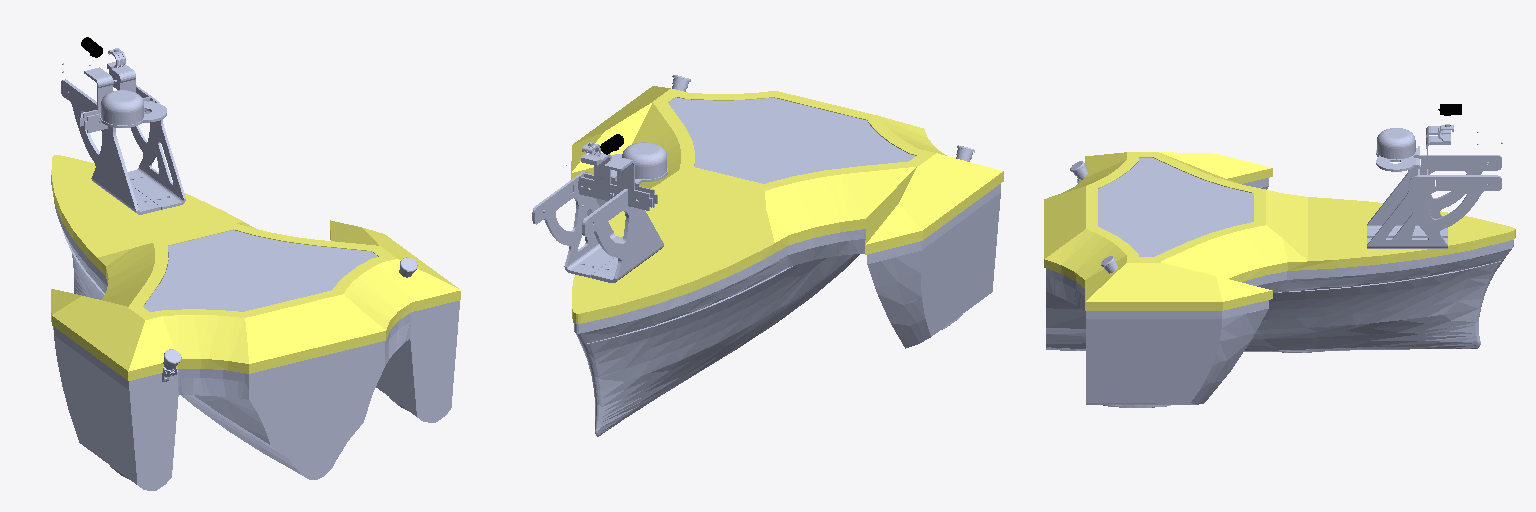
The robot description file, URDF, robot "asv_description":
<?xml version="1.0" ?>
<!-- =================================================================================== -->
<!-- |    This document was autogenerated by xacro from asv_base.urdf.xacro            | -->
<!-- |    EDITING THIS FILE BY HAND IS NOT RECOMMENDED                                 | -->
<!-- =================================================================================== -->
<robot name="asv_description" xmlns:xacro="http://www.ros.org/wiki/xacro">
  <link name="asv">
    <inertial>
      <origin rpy="0 0 0" xyz="0.38789 0.59329 1.1865"/>
      <mass value="0.5331"/>
      <inertia ixx="0" ixy="0" ixz="0" iyy="0" iyz="0" izz="0"/>
    </inertial>
    <visual>
      <origin rpy="0 0 0" xyz="0 0 0"/>
      <geometry>
        <mesh filename="package://asv_description/meshes/asv.STL"/>
      </geometry>
      <material name="">
        <color rgba="0.79216 0.81961 0.93333 1"/>
      </material>
    </visual>
    <collision>
      <origin rpy="0 0 0" xyz="0 0 0"/>
      <geometry>
        <mesh filename="package://asv_description/meshes/asv.STL"/>
      </geometry>
    </collision>
  </link>
  <link name="thruster_right">
    <inertial>
      <origin rpy="0 0 0" xyz="-4.8522E-05 0.00051157 0.0095278"/>
      <mass value="0.2183"/>
      <inertia ixx="9.1096E-05" ixy="3.0619E-09" ixz="-1.6688E-07" iyy="9.0558E-05" iyz="1.2699E-06" izz="1.246E-06"/>
    </inertial>
    <visual>
      <origin rpy="0 0 0" xyz="0 0 0"/>
      <geometry>
        <mesh filename="package://asv_description/meshes/thruster_right.STL"/>
      </geometry>
      <material name="">
        <color rgba="0.79216 0.81961 0.93333 1"/>
      </material>
    </visual>
    <collision>
      <origin rpy="0 0 0" xyz="0 0 0"/>
      <geometry>
        <mesh filename="package://asv_description/meshes/thruster_right.STL"/>
      </geometry>
    </collision>
  </link>
  <joint name="body_to_thruster_right" type="fixed">
    <origin rpy="1.5708 0 3.1416" xyz="0.74762 -1.335 0.37124"/>
    <parent link="asv"/>
    <child link="thruster_right"/>
    <axis xyz="0 0 0"/>
  </joint>
  <link name="thruster_left">
    <inertial>
      <origin rpy="0 0 0" xyz="-4.8521E-05 0.00051157 0.0095278"/>
      <mass value="0.2183"/>
      <inertia ixx="9.1096E-05" ixy="3.0619E-09" ixz="-1.6688E-07" iyy="9.0558E-05" iyz="1.2699E-06" izz="1.246E-06"/>
    </inertial>
    <visual>
      <origin rpy="0 0 0" xyz="0 0 0"/>
      <geometry>
        <mesh filename="package://asv_description/meshes/thruster_left.STL"/>
      </geometry>
      <material name="">
        <color rgba="0.79216 0.81961 0.93333 1"/>
      </material>
    </visual>
    <collision>
      <origin rpy="0 0 0" xyz="0 0 0"/>
      <geometry>
        <mesh filename="package://asv_description/meshes/thruster_left.STL"/>
      </geometry>
    </collision>
  </link>
  <joint name="body_to_thruster_left" type="fixed">
    <origin rpy="1.5708 0 3.1416" xyz="0.027678 -1.335 0.37124"/>
    <parent link="asv"/>
    <child link="thruster_left"/>
    <axis xyz="0 0 0"/>
  </joint>
  <link name="top_body">
    <inertial>
      <origin rpy="0 0 0" xyz="-3.2569E-05 0.15165 0.037912"/>
      <mass value="1.6252"/>
      <inertia ixx="0" ixy="0" ixz="0" iyy="0" iyz="0" izz="0"/>
    </inertial>
    <visual>
      <origin rpy="0 0 0" xyz="0 0 0"/>
      <geometry>
        <mesh filename="package://asv_description/meshes/top_body.STL"/>
      </geometry>
      <material name="">
        <color rgba="1 1 0.50196 1"/>
      </material>
    </visual>
    <collision>
      <origin rpy="0 0 0" xyz="0 0 0"/>
      <geometry>
        <mesh filename="package://asv_description/meshes/top_body.STL"/>
      </geometry>
    </collision>
  </link>
  <joint name="asv_to_top_body" type="fixed">
    <origin rpy="1.5708 0 0" xyz="0.38708 -1.0625 0.60681"/>
    <parent link="asv"/>
    <child link="top_body"/>
    <axis xyz="0 0 0"/>
  </joint>
  <link name="top_cover">
    <inertial>
      <origin rpy="0 0 0" xyz="2.7931E-06 -0.018976 0.0015"/>
      <mass value="0.43537"/>
      <inertia ixx="0" ixy="0" ixz="0" iyy="0" iyz="0" izz="0"/>
    </inertial>
    <visual>
      <origin rpy="0 0 0" xyz="0 0 0"/>
      <geometry>
        <mesh filename="package://asv_description/meshes/top_cover.STL"/>
      </geometry>
      <material name="">
        <color rgba="0.79216 0.81961 0.93333 1"/>
      </material>
    </visual>
    <collision>
      <origin rpy="0 0 0" xyz="0 0 0"/>
      <geometry>
        <mesh filename="package://asv_description/meshes/top_cover.STL"/>
      </geometry>
    </collision>
  </link>
  <joint name="top_body_to_cover" type="fixed">
    <origin rpy="-1.5708 0 0" xyz="0.00059952 0.19104 0.1763"/>
    <parent link="top_body"/>
    <child link="top_cover"/>
    <axis xyz="0 0 1"/>
    <limit effort="0" lower="0" upper="0.2" velocity="0"/>
  </joint>
  <link name="sensor_pod">
    <inertial>
      <origin rpy="0 0 0" xyz="-0.029193 -0.040604 -0.010551"/>
      <mass value="0.6495"/>
      <inertia ixx="0.0016814" ixy="-1.4742E-07" ixz="-3.6677E-05" iyy="0.0016822" iyz="-6.7581E-06" izz="8.2722E-07"/>
    </inertial>
    <visual>
      <origin rpy="0 0 0" xyz="0 0 0"/>
      <geometry>
        <mesh filename="package://asv_description/meshes/sensor_pod.STL"/>
      </geometry>
      <material name="">
        <color rgba="0.79216 0.81961 0.93333 1"/>
      </material>
    </visual>
    <collision>
      <origin rpy="0 0 0" xyz="0 0 0"/>
      <geometry>
        <mesh filename="package://asv_description/meshes/sensor_pod.STL"/>
      </geometry>
    </collision>
  </link>
  <joint name="top_to_sensor_pod" type="fixed">
    <origin rpy="0 1.5708 0" xyz="0 0.2547 -0.47015"/>
    <parent link="top_body"/>
    <child link="sensor_pod"/>
    <axis xyz="0 0 1"/>
  </joint>
  <link name="camera_garmin_mounts">
    <inertial>
      <origin rpy="0 0 0" xyz="0.0027436 0.024777 0.009305"/>
      <mass value="0.11757"/>
      <inertia ixx="0.0001482" ixy="1.0861E-19" ixz="-3.2822E-19" iyy="0.00013357" iyz="4.4199E-05" izz="1.4626E-05"/>
    </inertial>
    <visual>
      <origin rpy="0 0 0" xyz="0 0 0"/>
      <geometry>
        <mesh filename="package://asv_description/meshes/camera_garmin_mounts.STL"/>
      </geometry>
      <material name="">
        <color rgba="0.79216 0.81961 0.93333 1"/>
      </material>
    </visual>
    <collision>
      <origin rpy="0 0 0" xyz="0 0 0"/>
      <geometry>
        <mesh filename="package://asv_description/meshes/camera_garmin_mounts.STL"/>
      </geometry>
    </collision>
  </link>
  <joint name="pod_to_mounts" type="fixed">
    <origin rpy="0 -1.5708 0" xyz="-0.039919 0.069841 0"/>
    <parent link="sensor_pod"/>
    <child link="camera_garmin_mounts"/>
    <axis xyz="1 0 0"/>
  </joint>
  <link name="garmin">
    <inertial>
      <origin rpy="3.141592653589793 0 0" xyz="0 0.023342 0"/>
      <mass value="0.3356"/>
      <inertia ixx="0" ixy="0" ixz="0" iyy="0" iyz="0" izz="0"/>
    </inertial>
    <visual>
      <origin rpy="3.141592653589793 0 0" xyz="0 0 0"/>
      <geometry>
        <mesh filename="package://asv_description/meshes/garmin.STL"/>
      </geometry>
      <material name="">
        <color rgba="0.79216 0.81961 0.93333 1"/>
      </material>
    </visual>
    <collision>
      <origin rpy="3.141592653589793 0 0" xyz="0 0 0"/>
      <geometry>
        <mesh filename="package://asv_description/meshes/garmin.STL"/>
      </geometry>
    </collision>
  </link>
  <joint name="mount_to_garmin" type="fixed">
    <origin rpy="3.141592653589793 -0.18516 0" xyz="0.0027436 0.026 0.059"/>
    <parent link="camera_garmin_mounts"/>
    <child link="garmin"/>
    <axis xyz="0 0 0"/>
  </joint>
  <link name="camera">
    <inertial>
      <origin rpy="0 0 0" xyz="-2.8934E-05 -0.010178 0.021487"/>
      <mass value="0.041091"/>
      <inertia ixx="1.4847E-05" ixy="-3.2519E-08" ixz="-1.1631E-08" iyy="3.365E-06" iyz="-4.1204E-06" izz="1.1483E-05"/>
    </inertial>
    <visual>
      <origin rpy="0 0 0" xyz="0 0 0"/>
      <geometry>
        <mesh filename="package://asv_description/meshes/camera.STL"/>
      </geometry>
      <material name="">
        <color rgba="0.019608 0.019608 0.019608 1"/>
      </material>
    </visual>
    <collision>
      <origin rpy="0 0 0" xyz="0 0 0"/>
      <geometry>
        <mesh filename="package://asv_description/meshes/camera.STL"/>
      </geometry>
    </collision>
  </link>
  <joint name="mount_to_camera" type="fixed">
    <origin rpy="3.1167 0.020214 3.1416" xyz="0.002382 0.14006 -0.050118"/>
    <parent link="camera_garmin_mounts"/>
    <child link="camera"/>
    <axis xyz="0 0 0"/>
  </joint>
  <link name="lidar">
    <inertial>
      <origin rpy="0 0 0" xyz="0.00017493 -0.020457 0.00018726"/>
      <mass value="8.4876E-05"/>
      <inertia ixx="7.4827E-08" ixy="1.3927E-09" ixz="-5.2849E-10" iyy="1.4091E-07" iyz="1.6125E-09" izz="7.4592E-08"/>
    </inertial>
    <visual>
      <origin rpy="0 0 0" xyz="0 0 0"/>
      <geometry>
        <mesh filename="package://asv_description/meshes/lidar.STL"/>
      </geometry>
      <material name="">
        <color rgba="0.79216 0.81961 0.93333 1"/>
      </material>
    </visual>
    <collision>
      <origin rpy="0 0 0" xyz="0 0 0"/>
      <geometry>
        <mesh filename="package://asv_description/meshes/lidar.STL"/>
      </geometry>
    </collision>
  </link>
  <joint name="pod_to_lidar" type="fixed">
    <origin rpy="2.9322 -1.5708 0" xyz="0.12046 0.10702 0.0022421"/>
    <parent link="sensor_pod"/>
    <child link="lidar"/>
    <axis xyz="0 0 0"/>
  </joint>
  <link name="kill_switch_2">
    <inertial>
      <origin rpy="0 0 0" xyz="0.21906 0.04363 0.013308"/>
      <mass value="0.048397"/>
      <inertia ixx="0" ixy="0" ixz="0" iyy="0" iyz="0" izz="0"/>
    </inertial>
    <visual>
      <origin rpy="0 0 0" xyz="0 0 0"/>
      <geometry>
        <mesh filename="package://asv_description/meshes/kill_switch_2.STL"/>
      </geometry>
      <material name="">
        <color rgba="0.79216 0.81961 0.93333 1"/>
      </material>
    </visual>
    <collision>
      <origin rpy="0 0 0" xyz="0 0 0"/>
      <geometry>
        <mesh filename="package://asv_description/meshes/kill_switch_2.STL"/>
      </geometry>
    </collision>
  </link>
  <joint name="top_to_kill_2" type="fixed">
    <origin rpy="1.5708 0.5236 -1.5708" xyz="0.34081 0.37001 0.43324"/>
    <parent link="top_body"/>
    <child link="kill_switch_2"/>
    <axis xyz="0 0 0"/>
  </joint>
  <link name="kill_switch_1">
    <inertial>
      <origin rpy="0 0 0" xyz="0.21906 0.04363 0.013308"/>
      <mass value="0.048397"/>
      <inertia ixx="0" ixy="0" ixz="0" iyy="0" iyz="0" izz="0"/>
    </inertial>
    <visual>
      <origin rpy="0 0 0" xyz="0 0 0"/>
      <geometry>
        <mesh filename="package://asv_description/meshes/kill_switch_1.STL"/>
      </geometry>
      <material name="">
        <color rgba="0.79216 0.81961 0.93333 1"/>
      </material>
    </visual>
    <collision>
      <origin rpy="0 0 0" xyz="0 0 0"/>
      <geometry>
        <mesh filename="package://asv_description/meshes/kill_switch_1.STL"/>
      </geometry>
    </collision>
  </link>
  <joint name="top_to_kill_1" type="fixed">
    <origin rpy="-1.5708 0.5236 -1.5708" xyz="-0.34081 0.32638 0.50881"/>
    <parent link="top_body"/>
    <child link="kill_switch_1"/>
    <axis xyz="0 0 0"/>
  </joint>
  <link name="battery_1">
    <inertial>
      <origin rpy="0 0 0" xyz="-5.5511E-17 0.0185 0"/>
      <mass value="0.4921"/>
      <inertia ixx="0" ixy="0" ixz="0" iyy="0" iyz="0" izz="0"/>
    </inertial>
    <visual>
      <origin rpy="0 0 0" xyz="0 0 0"/>
      <geometry>
        <mesh filename="package://asv_description/meshes/battery_1.STL"/>
      </geometry>
      <material name="">
        <color rgba="0.79216 0.81961 0.93333 1"/>
      </material>
    </visual>
    <collision>
      <origin rpy="0 0 0" xyz="0 0 0"/>
      <geometry>
        <mesh filename="package://asv_description/meshes/battery_1.STL"/>
      </geometry>
    </collision>
  </link>
  <joint name="body_to_battery" type="fixed">
    <origin rpy="3.1416 0 0" xyz="0.38768 -1.5211 0.59834"/>
    <parent link="asv"/>
    <child link="battery_1"/>
    <axis xyz="0 0 0"/>
  </joint>
  <link name="battery_2">
    <inertial>
      <origin rpy="0 0 0" xyz="-5.5511E-17 0.0185 0"/>
      <mass value="0.4921"/>
      <inertia ixx="0" ixy="0" ixz="0" iyy="0" iyz="0" izz="0"/>
    </inertial>
    <visual>
      <origin rpy="0 0 0" xyz="0 0 0"/>
      <geometry>
        <mesh filename="package://asv_description/meshes/battery_2.STL"/>
      </geometry>
      <material name="">
        <color rgba="0.79216 0.81961 0.93333 1"/>
      </material>
    </visual>
    <collision>
      <origin rpy="0 0 0" xyz="0 0 0"/>
      <geometry>
        <mesh filename="package://asv_description/meshes/battery_2.STL"/>
      </geometry>
    </collision>
  </link>
  <joint name="battery_1_to_battery_2" type="fixed">
    <origin rpy="0 0 0" xyz="0 -0.037 0"/>
    <parent link="battery_1"/>
    <child link="battery_2"/>
    <axis xyz="0 0 0"/>
  </joint>
  <link name="mount">
    <inertial>
      <origin rpy="0 0 0" xyz="5.5511E-16 0.045908 -1.9984E-15"/>
      <mass value="0.23261"/>
      <inertia ixx="0" ixy="0" ixz="0" iyy="0" iyz="0" izz="0"/>
    </inertial>
    <visual>
      <origin rpy="0 0 0" xyz="0 0 0"/>
      <geometry>
        <mesh filename="package://asv_description/meshes/mount.STL"/>
      </geometry>
      <material name="">
        <color rgba="0.79216 0.81961 0.93333 1"/>
      </material>
    </visual>
    <collision>
      <origin rpy="0 0 0" xyz="0 0 0"/>
      <geometry>
        <mesh filename="package://asv_description/meshes/mount.STL"/>
      </geometry>
    </collision>
  </link>
  <joint name="body_to_mount" type="fixed">
    <origin rpy="1.5708 0 0" xyz="0.38768 -1.2531 0.56334"/>
    <parent link="asv"/>
    <child link="mount"/>
    <axis xyz="0 0 0"/>
  </joint>
  <link name="rs_232_port">
    <inertial>
      <origin rpy="0 0 0" xyz="6.911E-07 0.00015008 -0.0062931"/>
      <mass value="0.0020002"/>
      <inertia ixx="0" ixy="0" ixz="0" iyy="0" iyz="0" izz="0"/>
    </inertial>
    <visual>
      <origin rpy="0 0 0" xyz="0 0 0"/>
      <geometry>
        <mesh filename="package://asv_description/meshes/rs_232_port.STL"/>
      </geometry>
      <material name="">
        <color rgba="0.79216 0.81961 0.93333 1"/>
      </material>
    </visual>
    <collision>
      <origin rpy="0 0 0" xyz="0 0 0"/>
      <geometry>
        <mesh filename="package://asv_description/meshes/rs_232_port.STL"/>
      </geometry>
    </collision>
  </link>
  <joint name="mount_to_port" type="fixed">
    <origin rpy="-1.5708 0 0" xyz="0 0.0134 0.13225"/>
    <parent link="mount"/>
    <child link="rs_232_port"/>
    <axis xyz="0 0 0"/>
  </joint>
  <link name="status_board">
    <inertial>
      <origin rpy="0 0 0" xyz="-0.00056781 0.0042824 0.02751"/>
      <mass value="0.013407"/>
      <inertia ixx="6.9707E-07" ixy="4.0982E-08" ixz="5.6997E-08" iyy="4.6531E-07" iyz="-3.2949E-07" izz="2.4594E-07"/>
    </inertial>
    <visual>
      <origin rpy="0 0 0" xyz="0 0 0"/>
      <geometry>
        <mesh filename="package://asv_description/meshes/status_board.STL"/>
      </geometry>
      <material name="">
        <color rgba="0.79216 0.81961 0.93333 1"/>
      </material>
    </visual>
    <collision>
      <origin rpy="0 0 0" xyz="0 0 0"/>
      <geometry>
        <mesh filename="package://asv_description/meshes/status_board.STL"/>
      </geometry>
    </collision>
  </link>
  <joint name="mount_to_status_board" type="fixed">
    <origin rpy="0 0 0" xyz="-0.058 0.003 -0.032"/>
    <parent link="mount"/>
    <child link="status_board"/>
    <axis xyz="0 0 0"/>
  </joint>
</robot>

--- Facts derived from the render (not from the file) ---
The picture shows the robot from 3 angles, left to right: view 1: azimuth 30°, elevation 25°; view 2: azimuth 150°, elevation 25°; view 3: azimuth 270°, elevation 25°; orthographic projection.
Robot: asv_description — 17 links, 16 joints (16 fixed); root link asv; default pose: every joint at zero.
Visible links, largest first — view 1: top_body, asv, top_cover, sensor_pod, garmin, camera_garmin_mounts; view 2: top_body, asv, top_cover, sensor_pod, camera_garmin_mounts, garmin; view 3: asv, top_body, top_cover, sensor_pod, garmin.
Boxes of the visible links, x1,y1,x2,y2 form: top_body: [51, 155, 460, 380]; asv: [53, 203, 459, 490]; top_cover: [143, 230, 377, 311]; sensor_pod: [61, 48, 185, 214]; garmin: [101, 90, 143, 124]; camera_garmin_mounts: [80, 67, 142, 132]; top_body: [571, 86, 1003, 323]; asv: [574, 99, 1000, 436]; top_cover: [669, 97, 915, 183]; sensor_pod: [532, 142, 663, 282]; camera_garmin_mounts: [604, 156, 667, 210]; garmin: [622, 142, 666, 178]; asv: [1046, 161, 1513, 407]; top_body: [1044, 152, 1515, 310]; top_cover: [1098, 158, 1253, 256]; sensor_pod: [1367, 124, 1501, 248]; garmin: [1377, 128, 1415, 159].
Size in the robot's own frame: 0.8576 by 1.17 by 0.6747 metres.
Meshes: 17 distinct files referenced, 15 mesh visuals loaded (15 binary STL); not drawn: 2 (reference not matched to a file when rendering).